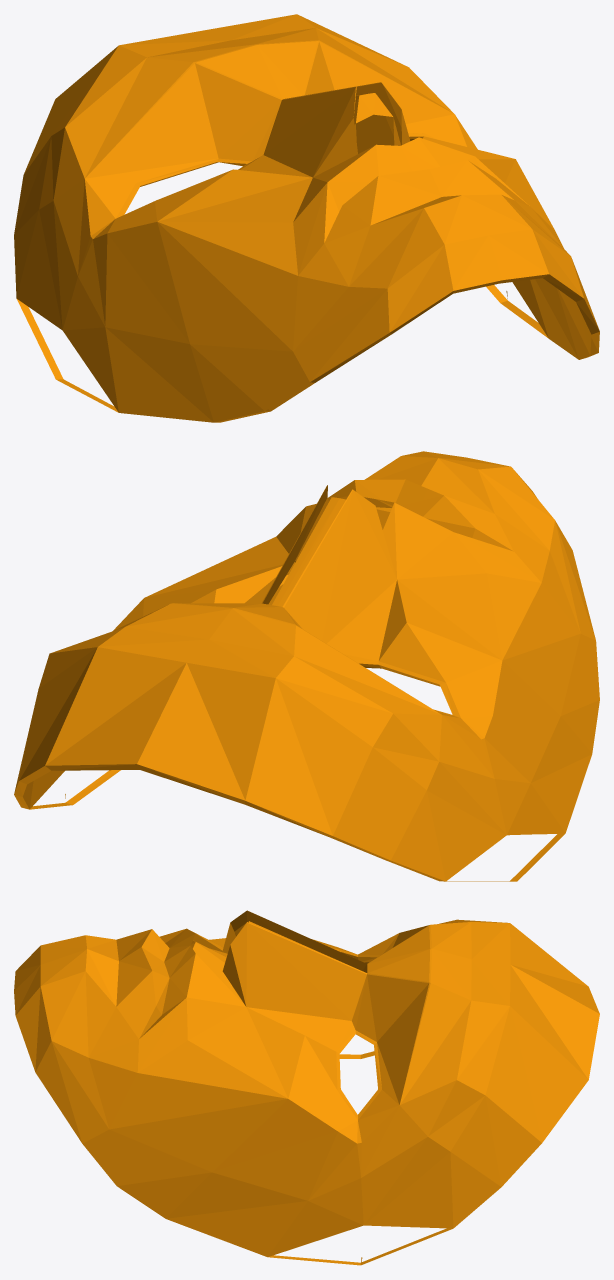
File: mask1.glb
The picture shows the model from 3 angles, top to bottom: view 1: azimuth 30°, elevation 25°; view 2: azimuth 150°, elevation 25°; view 3: azimuth 270°, elevation 25°; orthographic projection. The views are drawn at different scales.
Parts seen in each view (by area): view 1: maskmain; view 2: maskmain; view 3: maskmain.
Part boxes in pixels (x1,y1,x2,y2): maskmain: (14,14,599,422); maskmain: (14,451,599,881); maskmain: (14,910,599,1265).
Bounding box in the file's own units: 16.96 × 11.39 × 22.75.
